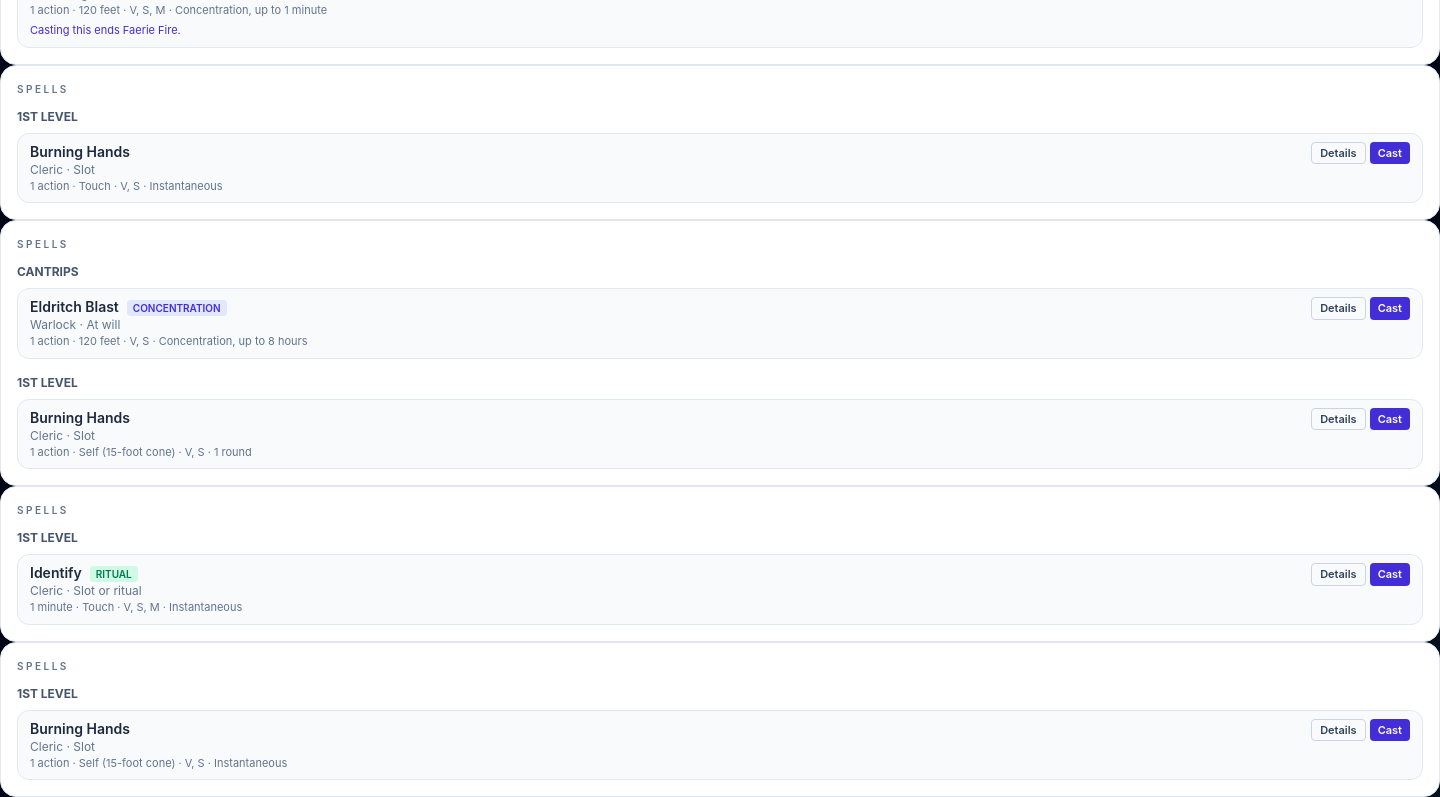
Scenario: SpellsWidget › says when no slot can pay for a spell that is not a ritual
(page scrolled)
Click the 6th button "Cast". click: coordinates (1390, 730)
box: [1370,718,1410,741]
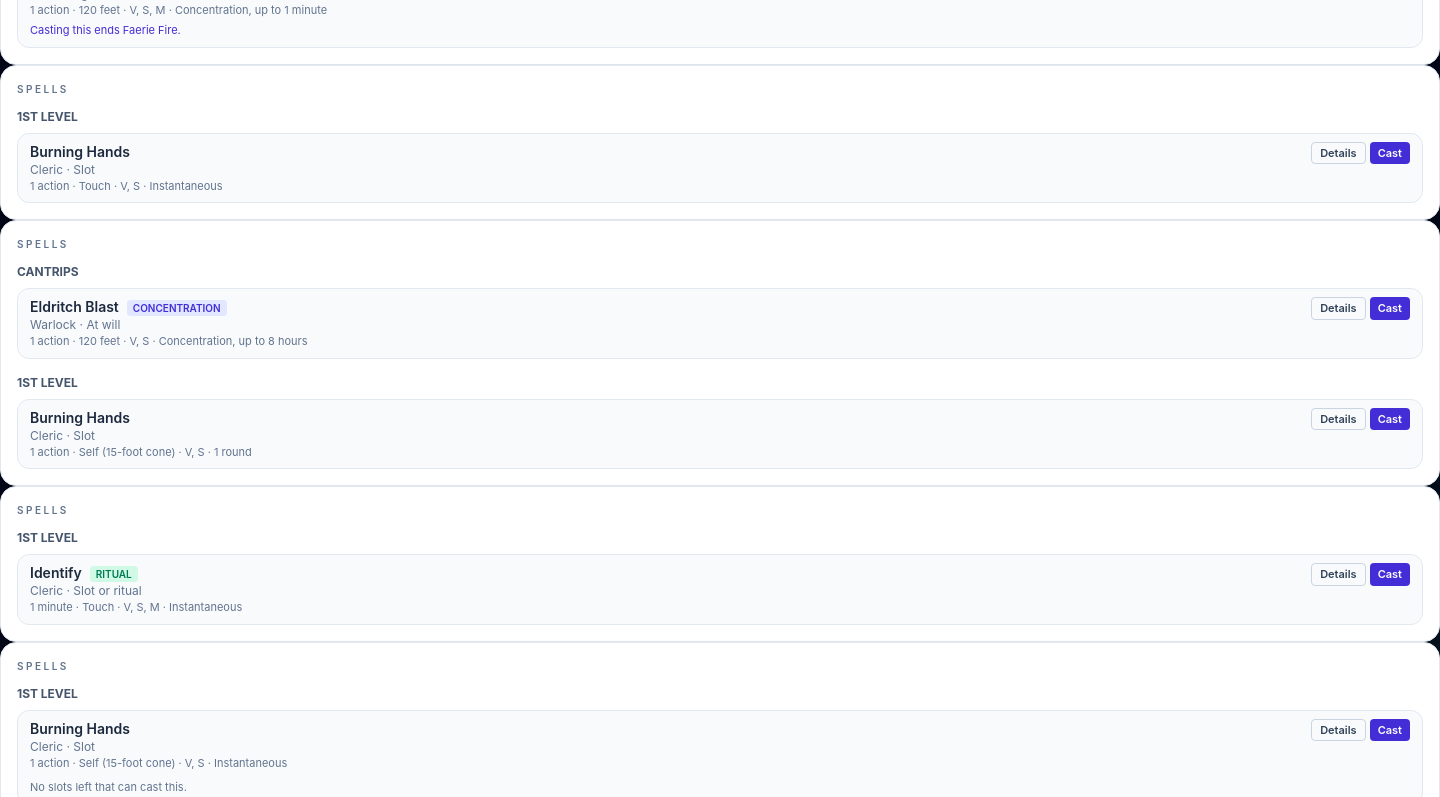
Result: the text "No slots left that can cast this." is shown at [30,779,187,796]
